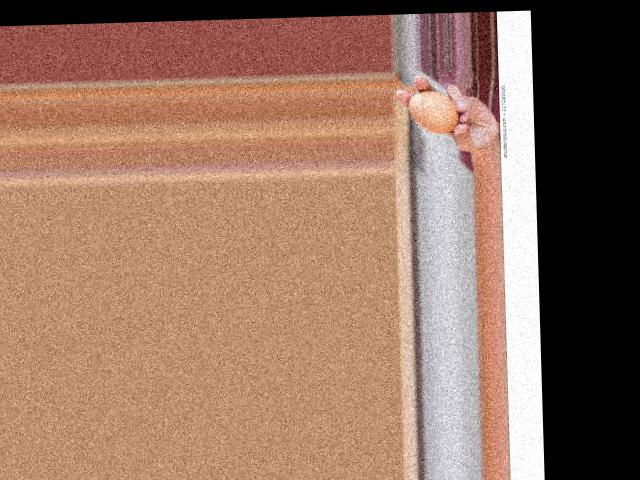egg: (408, 89, 458, 133)
